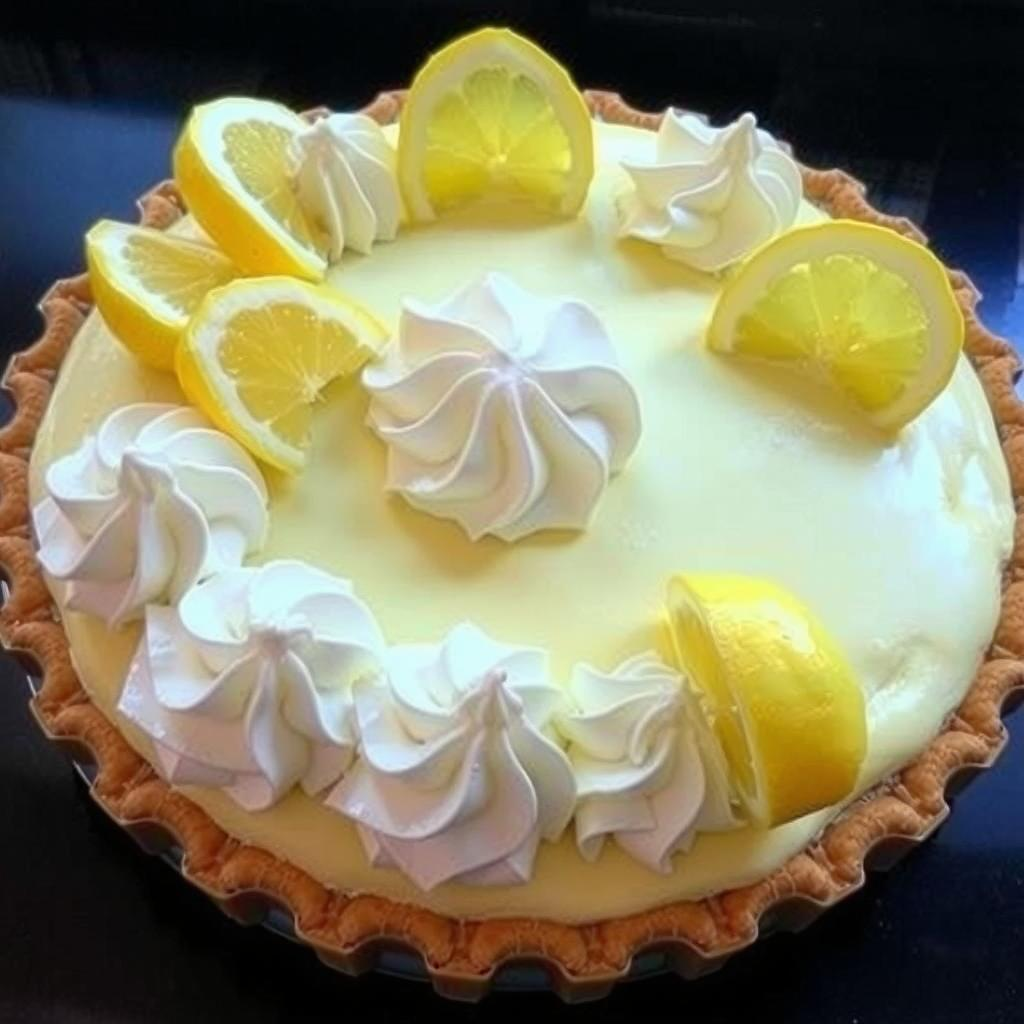cake: (0, 24, 1024, 1007)
